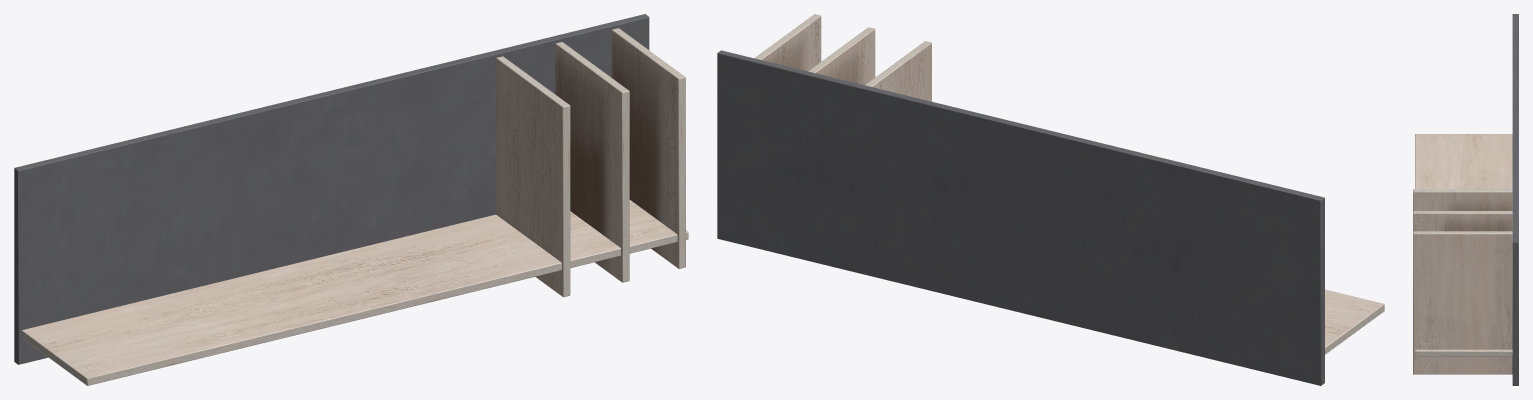
File: abo-B07H8SM6RM.glb
3 renders of one model, left to right at view 1: azimuth 30°, elevation 25°; view 2: azimuth 150°, elevation 25°; view 3: azimuth 270°, elevation 25°, orthographic. The views are drawn at different scales.
Bounding box in the file's own units: 1.02 × 0.3 × 0.2.
1 material, 1 textured.
